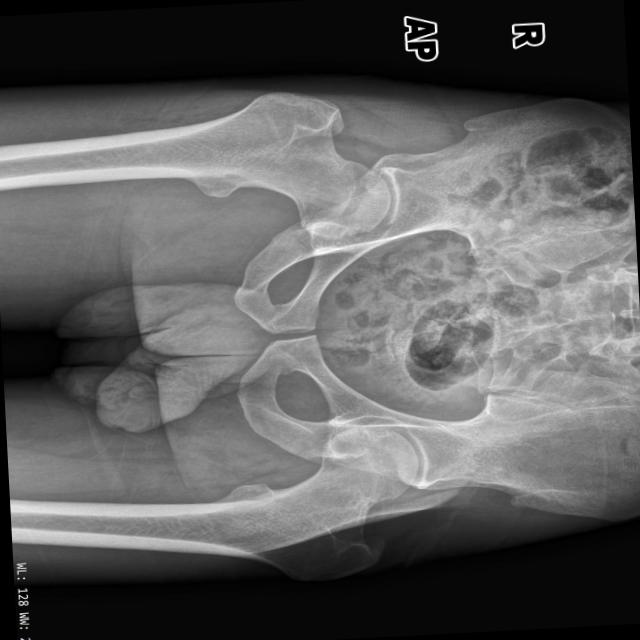normal-left: (100, 426, 418, 582)
normal-right: (74, 92, 391, 240)
